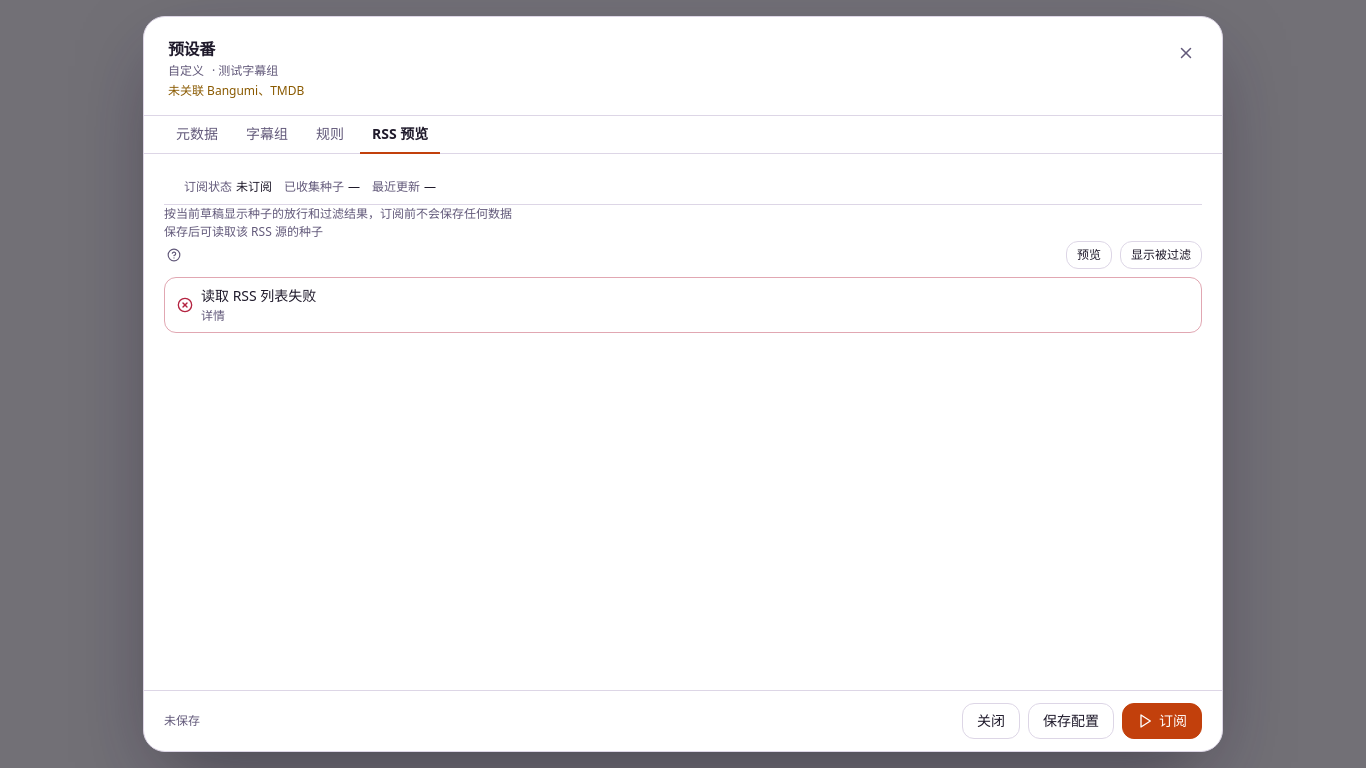
Test: AnimeConfigDialog 草稿保存与 RSS 预览 › 订阅被 PROVIDER_ENTRY_ALREADY_SUBSCRIBED 拒绝（2 个已有订阅）
The image size is (1366, 768).
Click the button "订阅" at (1162, 721), box [1122, 703, 1202, 739]
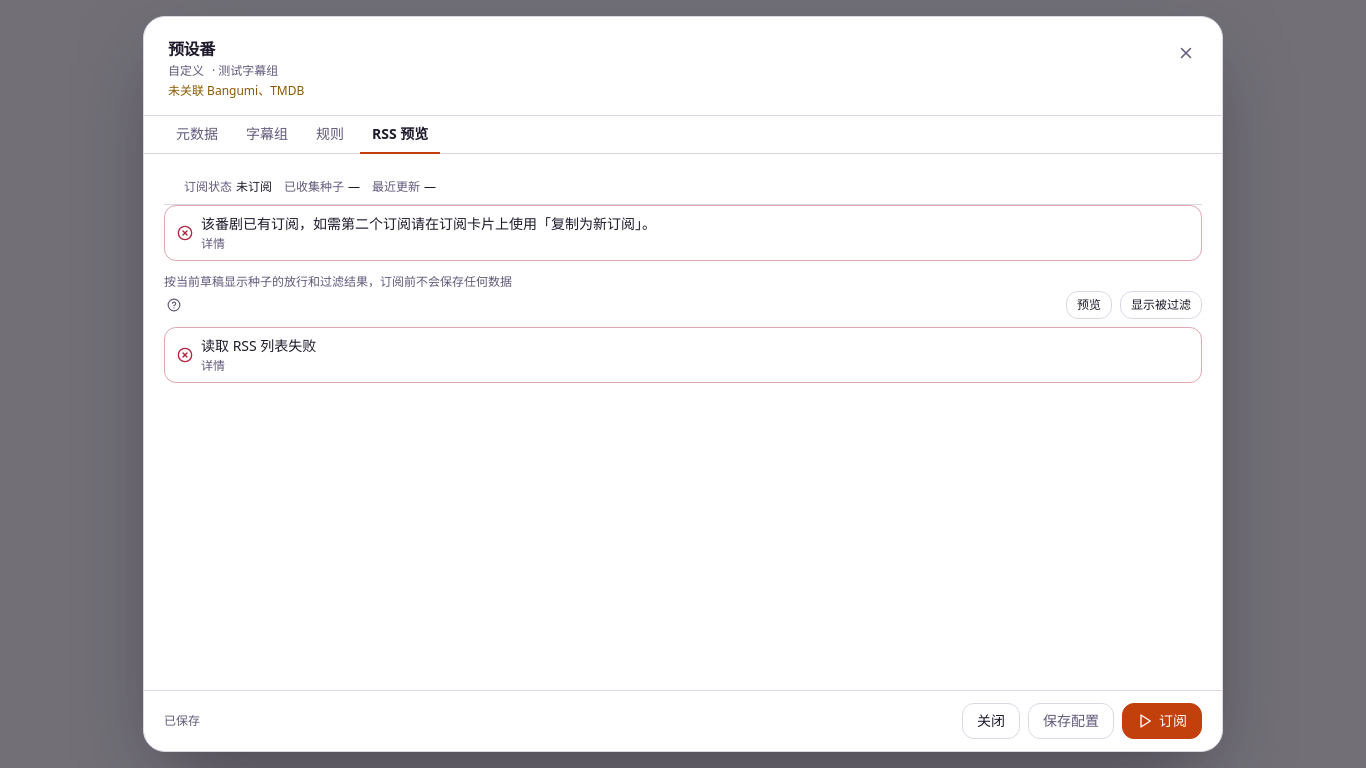
Now the text "该番剧已有订阅，如需第二个订阅请在订阅卡片上使用「复制为新订阅」。" is shown, box [201, 214, 656, 233]
